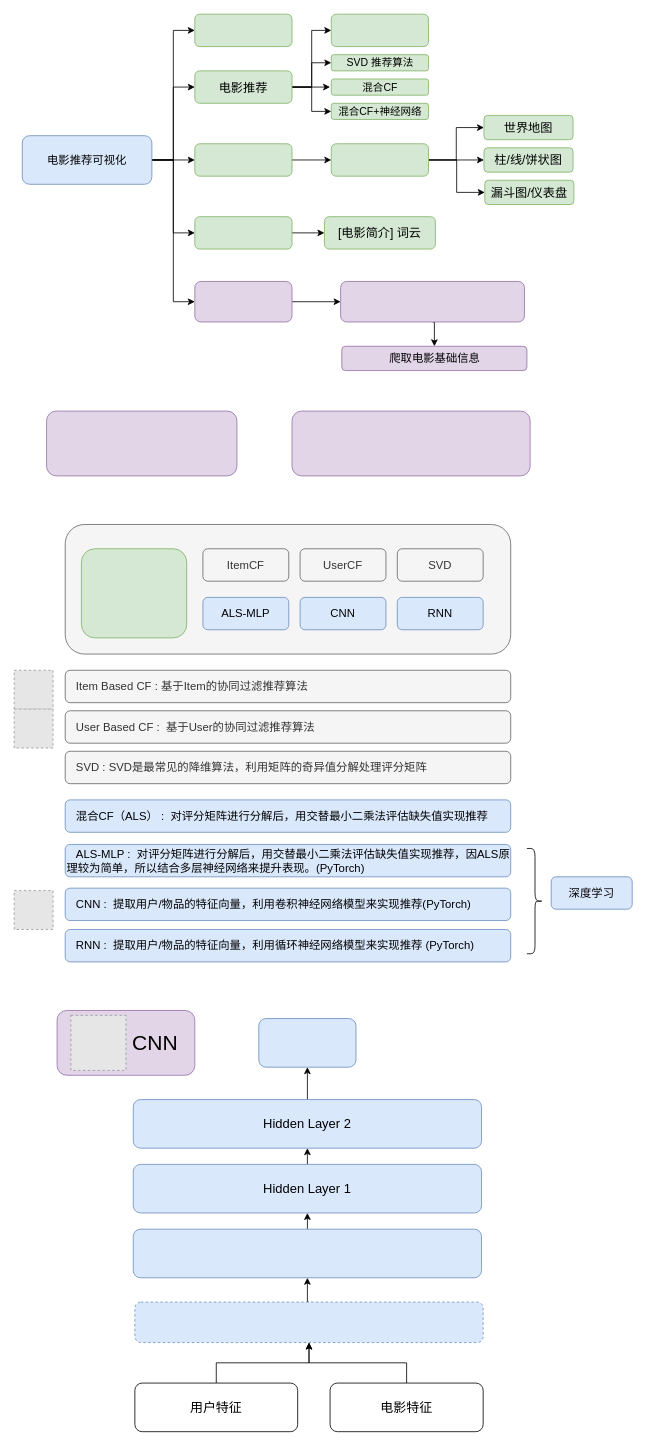
Image size: 646x1446. Some labels were removed from this diagram. Grey dashed boxes stand in for pictures. The centre of each missing label's shape, as x and y in pixels:
"CNN卷积神经网络" goes at pixel 307 1253.
"Echarts 可视化" goes at pixel 379 159.
"UserCF、ItemCF 双协同过滤推荐算法" goes at pixel 379 30.
"一维的输出" goes at pixel 307 1042.
"基于scrapy的豆瓣电影信息爬虫" goes at pixel 432 301.
"推荐算法" goes at pixel 134 593.
"数据分析可视化" goes at pixel 243 159.
"演员、导演：20000+" goes at pixel 410 443.
"特征矩阵" goes at pixel 308 1322.
"电影数: 4000+" goes at pixel 141 443.
"登录与注册" goes at pixel 243 30.
"词 云" goes at pixel 243 232.
"豆瓣电影数爬虫" goes at pixel 243 301.
